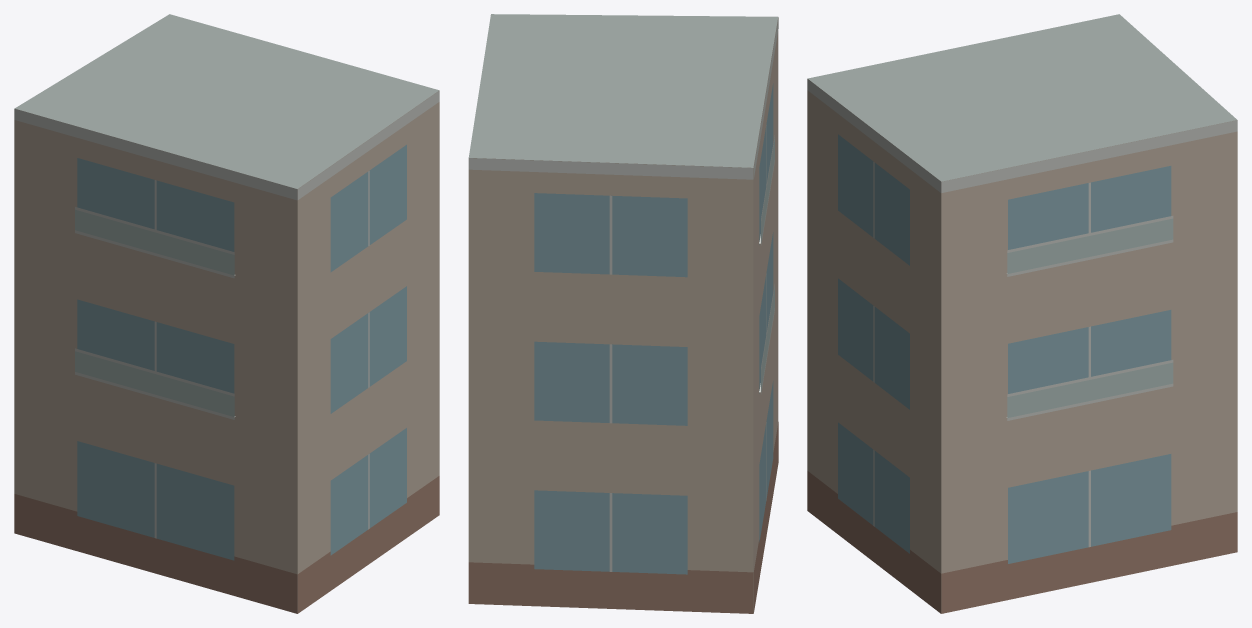
Rendered from survey-upis-32915471.glb.
The picture shows the model from 3 angles, left to right: view 1: azimuth 30°, elevation 25°; view 2: azimuth 150°, elevation 25°; view 3: azimuth 270°, elevation 25°; orthographic projection. The views are drawn at different scales.
Parts seen in each view (by area): view 1: survey-upis-32915471.tmp; view 2: survey-upis-32915471.tmp; view 3: survey-upis-32915471.tmp.
Boxes of the visible parts, x1,y1,x2,y2 form: survey-upis-32915471.tmp: [14, 14, 439, 613]; survey-upis-32915471.tmp: [468, 14, 778, 613]; survey-upis-32915471.tmp: [807, 14, 1237, 613].
Bounding box in the file's own units: 7.62 × 9.15 × 8.26.
